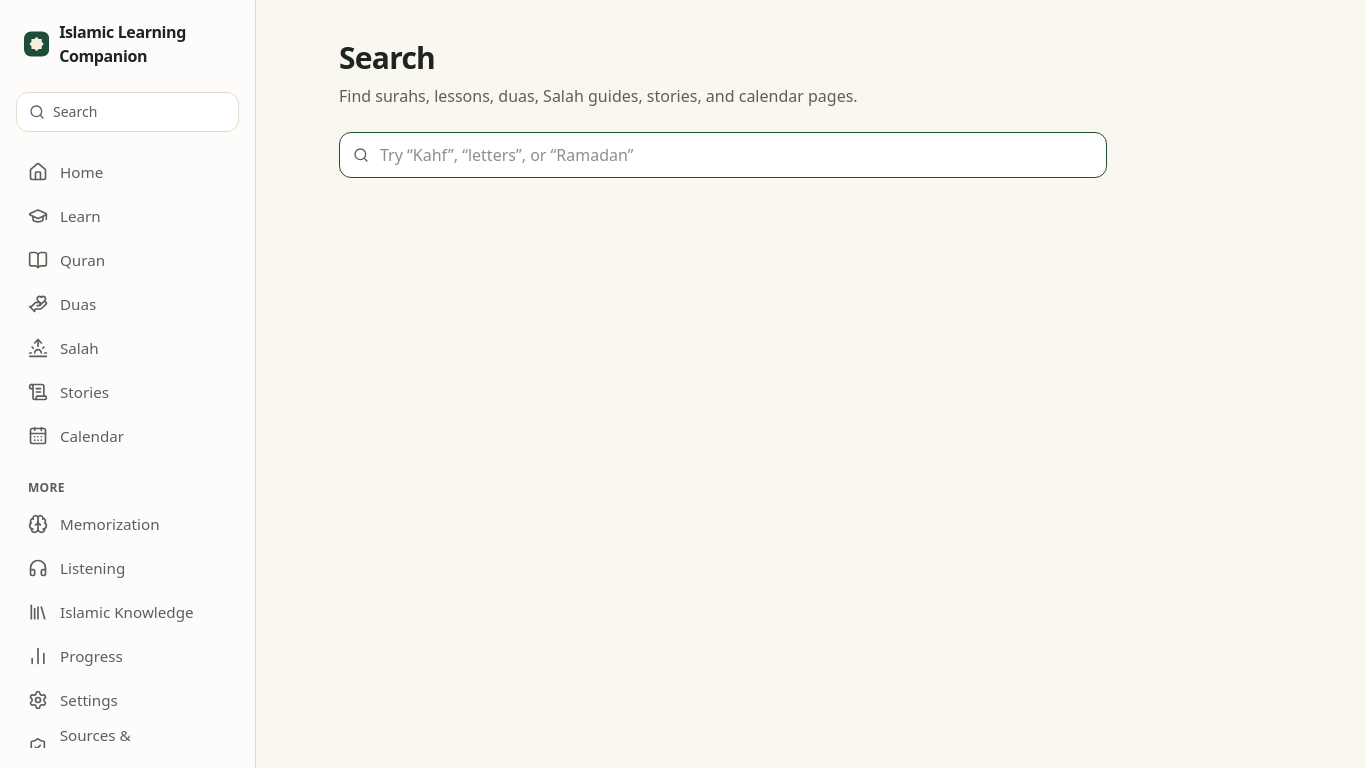
global search › explains when nothing matches
The image size is (1366, 768).
Type "qqqzzz" into the search field named "search everything".
click(723, 155); type("qqqzzz")  # box [339,132,1107,178]
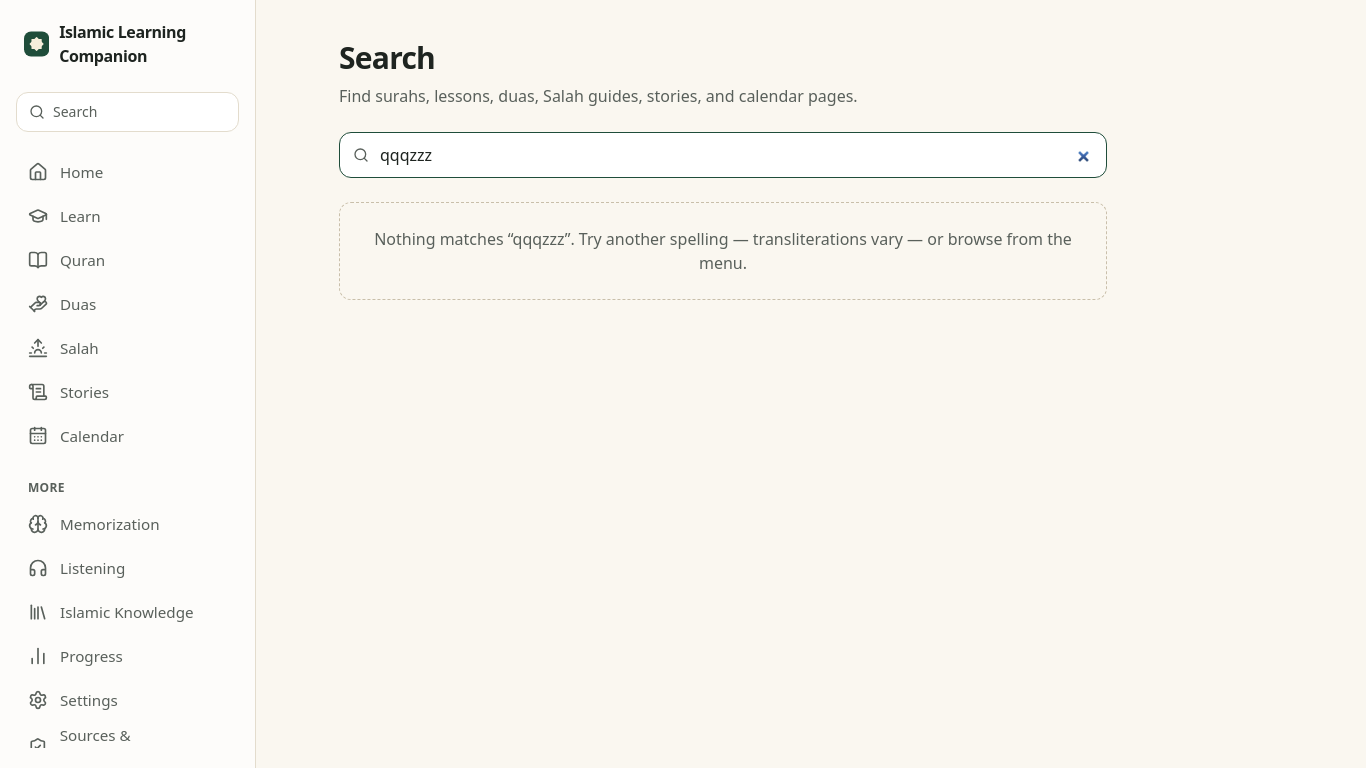
Result: the text "transliterations vary" is shown at [565,228,1072,274]
